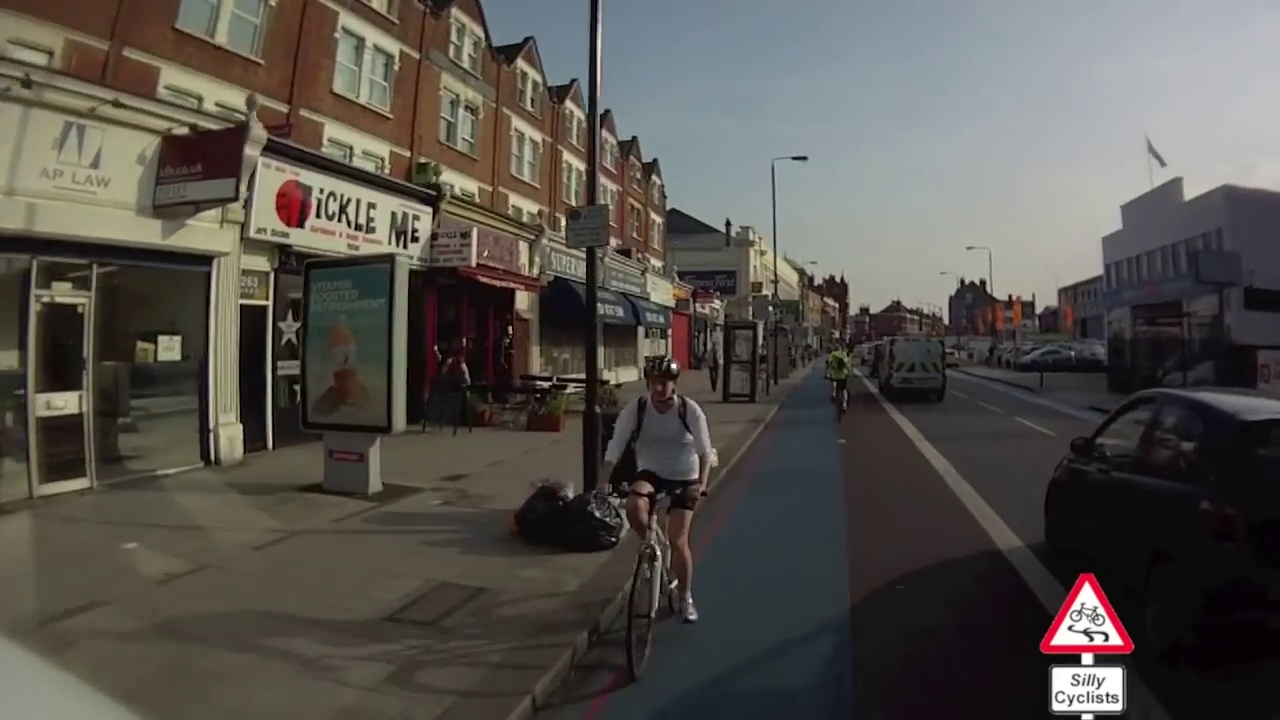cyclist_back: (821, 340, 854, 425)
cyclist_front: (579, 335, 716, 690)
